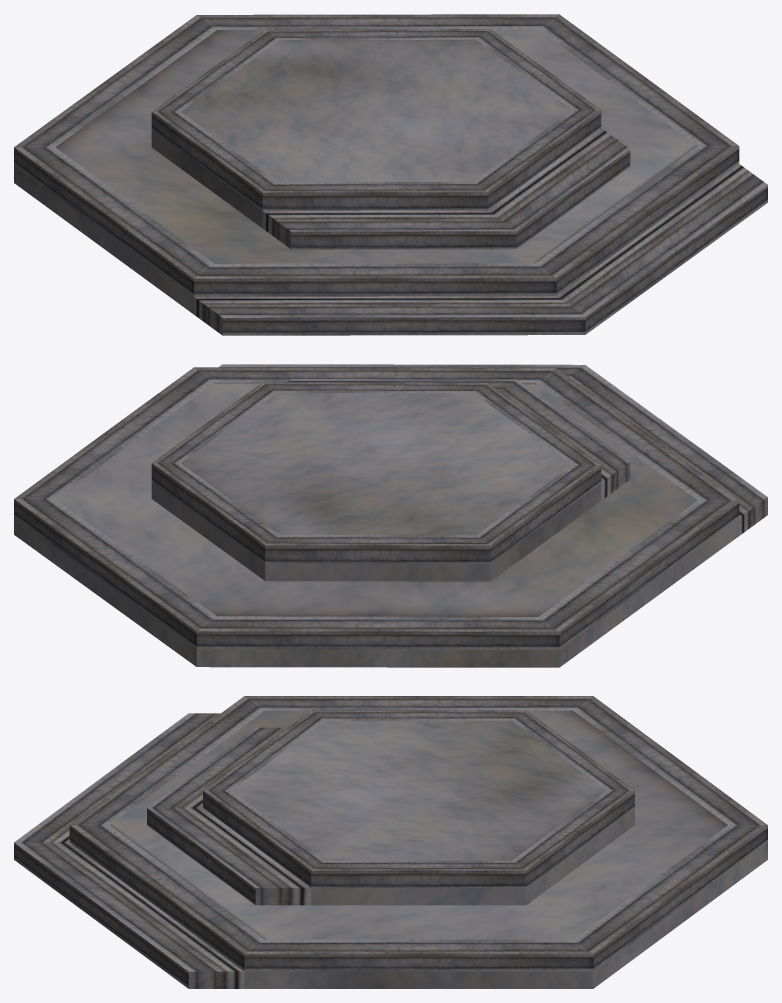
File: pedestal_01.glb
3 renders of one model, top to bottom at view 1: azimuth 30°, elevation 25°; view 2: azimuth 150°, elevation 25°; view 3: azimuth 270°, elevation 25°, orthographic. The views are drawn at different scales.
Visible parts, largest first — view 1: pedestal_01; view 2: pedestal_01; view 3: pedestal_01.
Part boxes in pixels (bbox=[...]): pedestal_01: bbox=[14, 14, 767, 335]; pedestal_01: bbox=[14, 364, 767, 667]; pedestal_01: bbox=[14, 696, 767, 988].
Bounding box in the file's own units: 8 × 1 × 9.87.
Materials: 1 (1 with a texture image).
